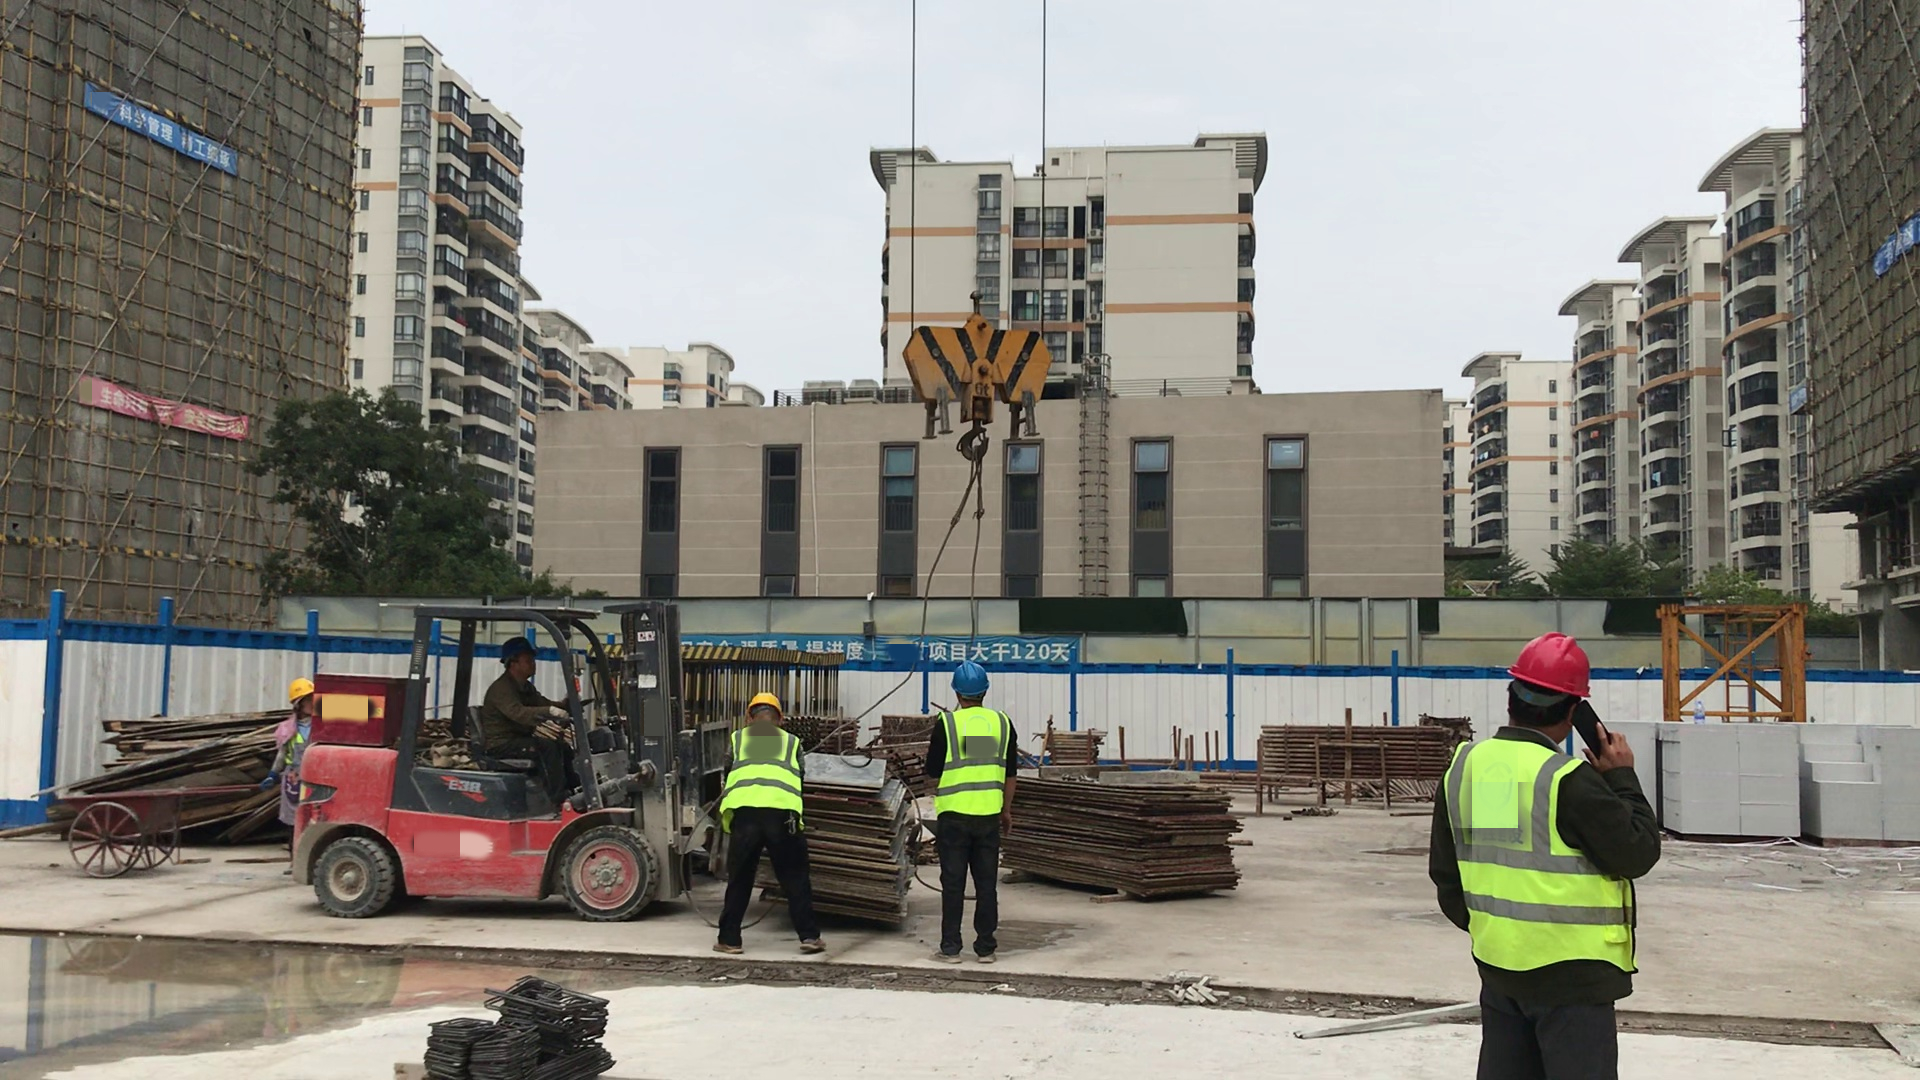board: (1015, 755, 1245, 901), (800, 749, 920, 933)
brick: (1668, 718, 1813, 842), (1807, 716, 1920, 843)
handcart: (38, 789, 271, 875)
helmet: (1501, 617, 1590, 701), (947, 660, 994, 702), (493, 634, 540, 663), (743, 689, 786, 717)
hook: (900, 286, 1050, 474)
person: (1391, 620, 1698, 1080), (692, 695, 841, 964), (918, 656, 1033, 967), (455, 632, 599, 798)
scaffold: (1257, 724, 1453, 779)
slogan: (698, 634, 1072, 674), (92, 83, 241, 170), (81, 375, 259, 438)
vest: (1440, 737, 1644, 975), (935, 711, 1005, 812), (726, 729, 803, 814)
